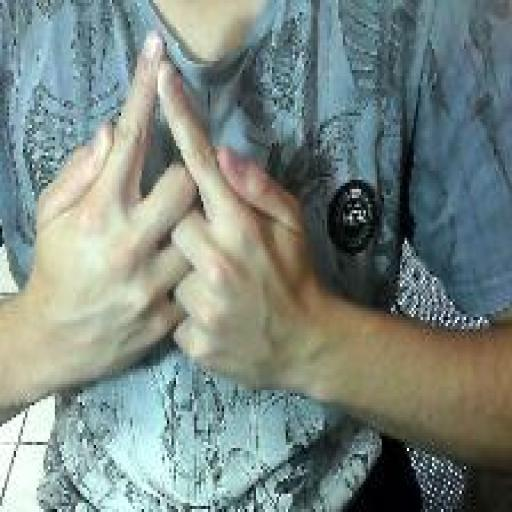Uma -horse-: (29, 28, 312, 406)
